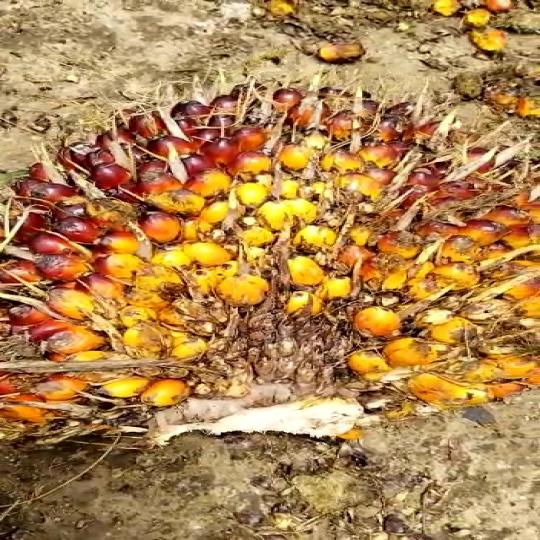masak: (0, 70, 540, 445)
